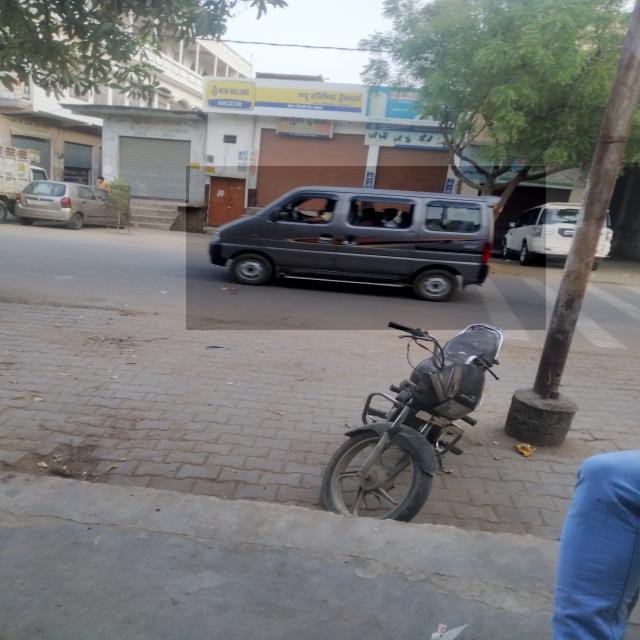Travller: (186, 166, 546, 330)
